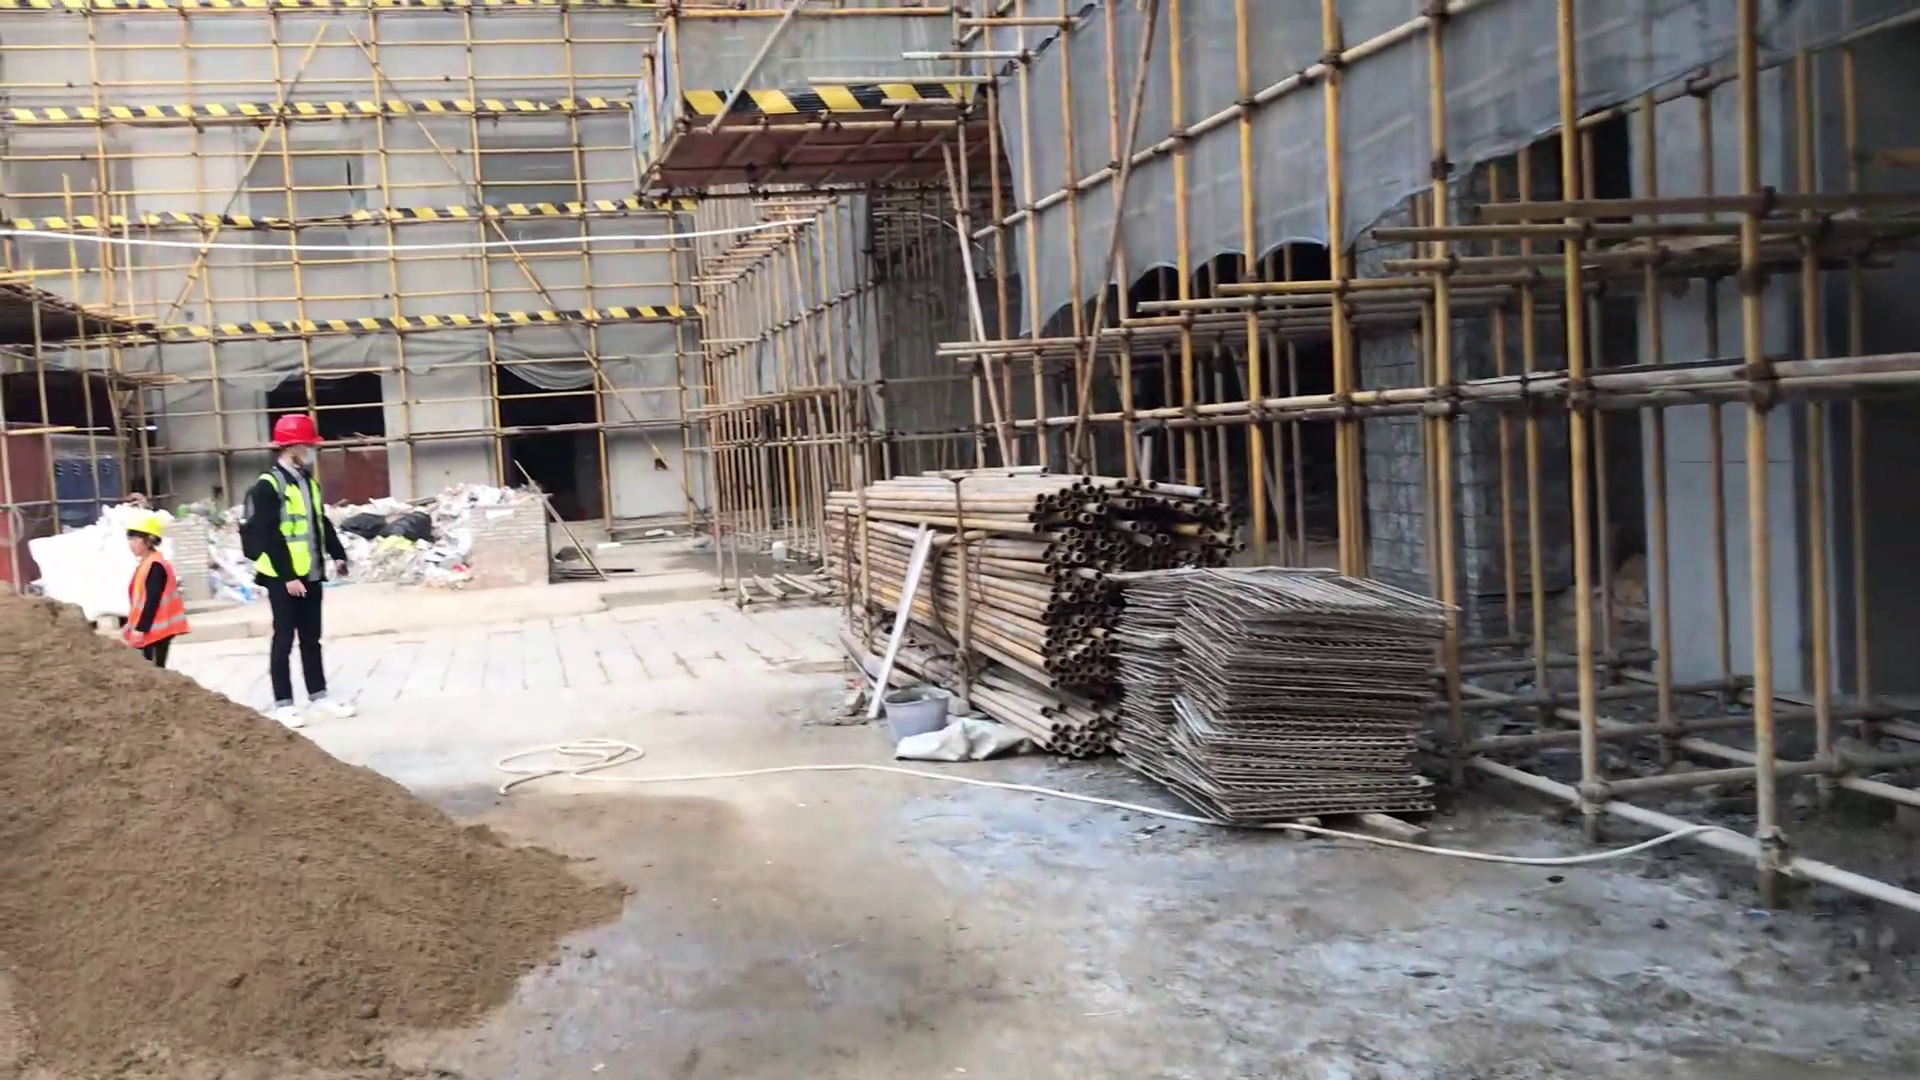helmet: (266, 404, 341, 453), (119, 504, 174, 541)
person: (236, 413, 366, 726), (108, 502, 201, 674)
vest: (251, 468, 334, 604), (123, 552, 191, 646)
